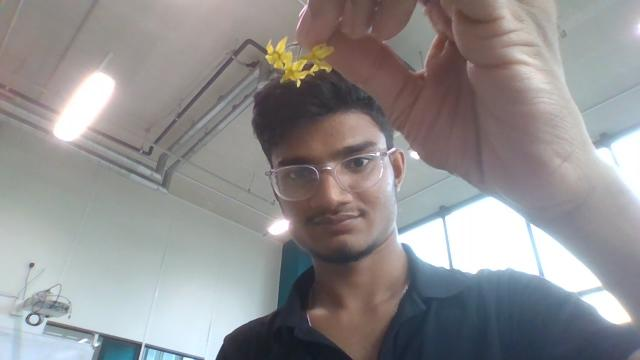Anthesis: (298, 43, 335, 73), (265, 36, 293, 71), (281, 57, 314, 86), (275, 37, 287, 59), (265, 42, 276, 61)
